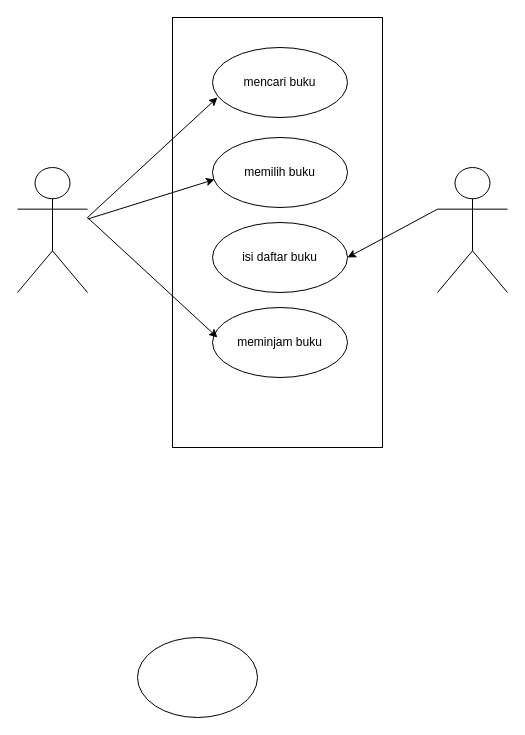
Image size: 525x735. Some labels were removed from this diagram. The shapes that lost their labels are listed below. From the top down, each one's centre as x and y in pixels, then its label:
At (x=52, y=229): "Anggota".
At (x=472, y=229): "Pustakawan".
